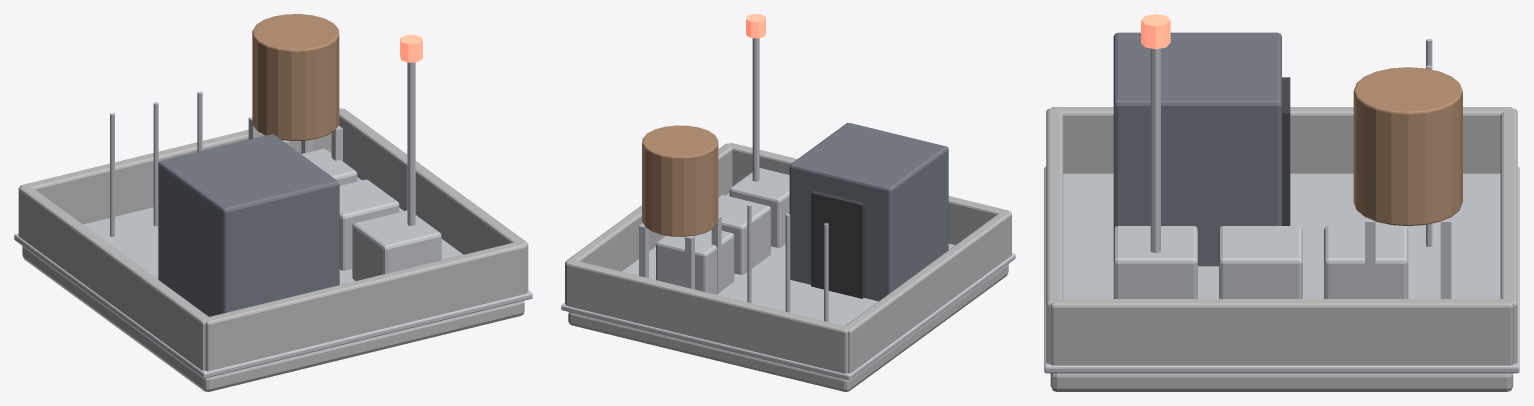
The model's file is roof_2x2_mech_office.glb.
3 views of the same model, side by side, from view 1: azimuth 30°, elevation 25°; view 2: azimuth 150°, elevation 25°; view 3: azimuth 270°, elevation 25° (orthographic). The views are drawn at different scales.
Parts seen in each view (by area): view 1: ext_parapet, ext_penthouse, ext_tank, ext_ac, int_slab, int_slab_edge, ext_mast, ext_tank_legs, ext_ant1, ext_ant0, ext_beacon; view 2: ext_parapet, ext_penthouse, ext_ac, ext_tank, int_slab_edge, int_slab, ext_penthouse_door, ext_tank_legs, ext_mast, ext_ant1, ext_ant0, ext_ant2 (+1 smaller); view 3: ext_parapet, ext_penthouse, int_slab_edge, ext_ac, ext_tank, int_slab, ext_mast, ext_tank_legs, ext_penthouse_door, ext_beacon.
Boxes of the visible parts, x1,y1,x2,y2 form: ext_parapet: (18, 108, 528, 371); ext_penthouse: (158, 134, 339, 316); ext_tank: (252, 14, 339, 140); ext_ac: (301, 148, 441, 280); int_slab: (22, 246, 524, 391); int_slab_edge: (14, 177, 532, 378); ext_mast: (407, 62, 415, 225); ext_tank_legs: (248, 117, 342, 161); ext_ant1: (153, 102, 158, 226); ext_ant0: (110, 113, 114, 236); ext_beacon: (400, 34, 422, 62); ext_parapet: (565, 143, 1011, 373); ext_penthouse: (789, 123, 948, 301); ext_ac: (656, 168, 789, 294); ext_tank: (642, 125, 718, 236); int_slab_edge: (561, 193, 1015, 380); int_slab: (568, 264, 1008, 391); ext_penthouse_door: (811, 190, 865, 298); ext_tank_legs: (639, 216, 721, 293); ext_mast: (752, 38, 759, 181); ext_ant1: (785, 213, 790, 312); ext_ant0: (824, 223, 828, 321); ext_ant2: (747, 204, 751, 303); ext_parapet: (1046, 107, 1517, 365); ext_penthouse: (1113, 32, 1281, 266); int_slab_edge: (1044, 166, 1519, 373); ext_ac: (1113, 226, 1408, 298); ext_tank: (1353, 67, 1462, 225); int_slab: (1050, 373, 1513, 391); ext_mast: (1150, 48, 1160, 252); ext_tank_legs: (1365, 217, 1451, 298); ext_penthouse_door: (1282, 77, 1290, 225); ext_beacon: (1141, 14, 1170, 49).
Size of the model in its own units: 2.26 by 1.73 by 2.26.
